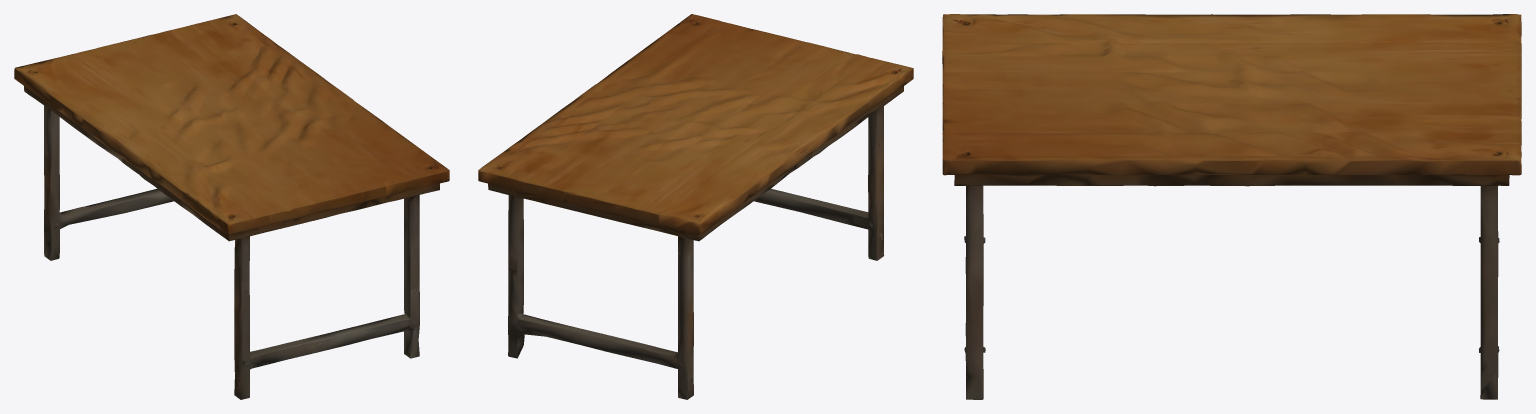
Rendered from level0-manila-desk.glb.
3 views of the same model, side by side, from view 1: azimuth 30°, elevation 25°; view 2: azimuth 150°, elevation 25°; view 3: azimuth 270°, elevation 25° (orthographic). The views are drawn at different scales.
Parts seen in each view (by area): view 1: tripo_node_b635454f-55f6-48cb-8528-4ab5a1d0b9c8; view 2: tripo_node_b635454f-55f6-48cb-8528-4ab5a1d0b9c8; view 3: tripo_node_b635454f-55f6-48cb-8528-4ab5a1d0b9c8.
Boxes of the visible parts, x1,y1,x2,y2 form: tripo_node_b635454f-55f6-48cb-8528-4ab5a1d0b9c8: [14, 14, 449, 399]; tripo_node_b635454f-55f6-48cb-8528-4ab5a1d0b9c8: [478, 14, 913, 399]; tripo_node_b635454f-55f6-48cb-8528-4ab5a1d0b9c8: [942, 14, 1521, 399].
Size of the model in its own units: 0.6004 by 0.4897 by 1.
Materials: 1 (1 with a texture image).
